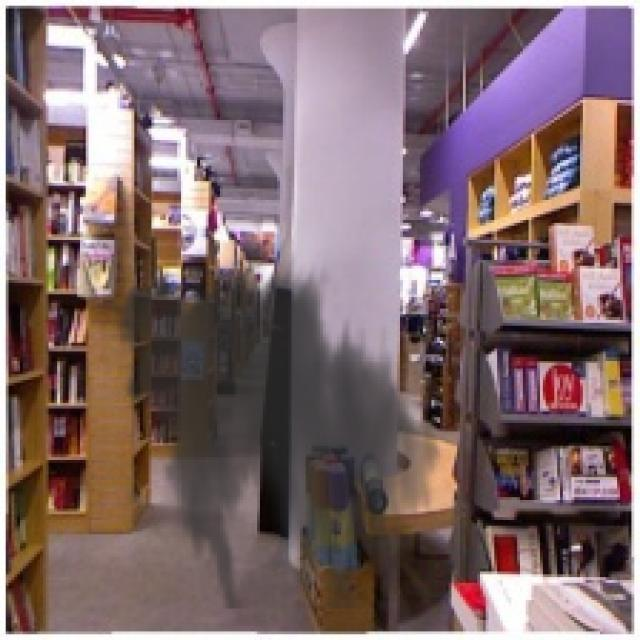Smoke: (100, 248, 452, 608)
